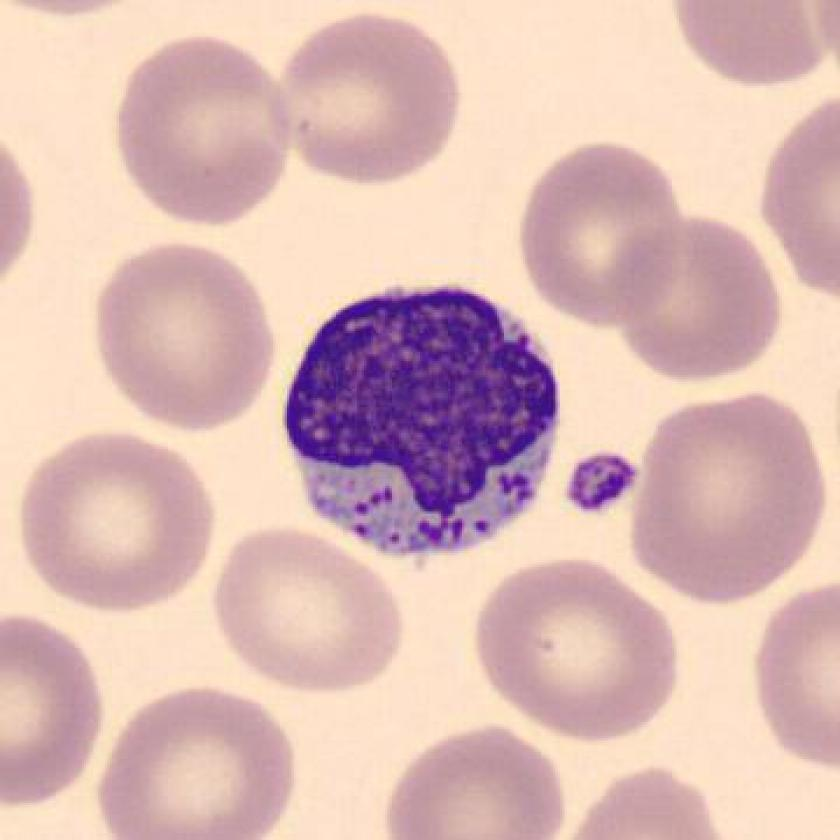lymphocyte: (270, 270, 578, 573)
platelets: (566, 449, 642, 515)
